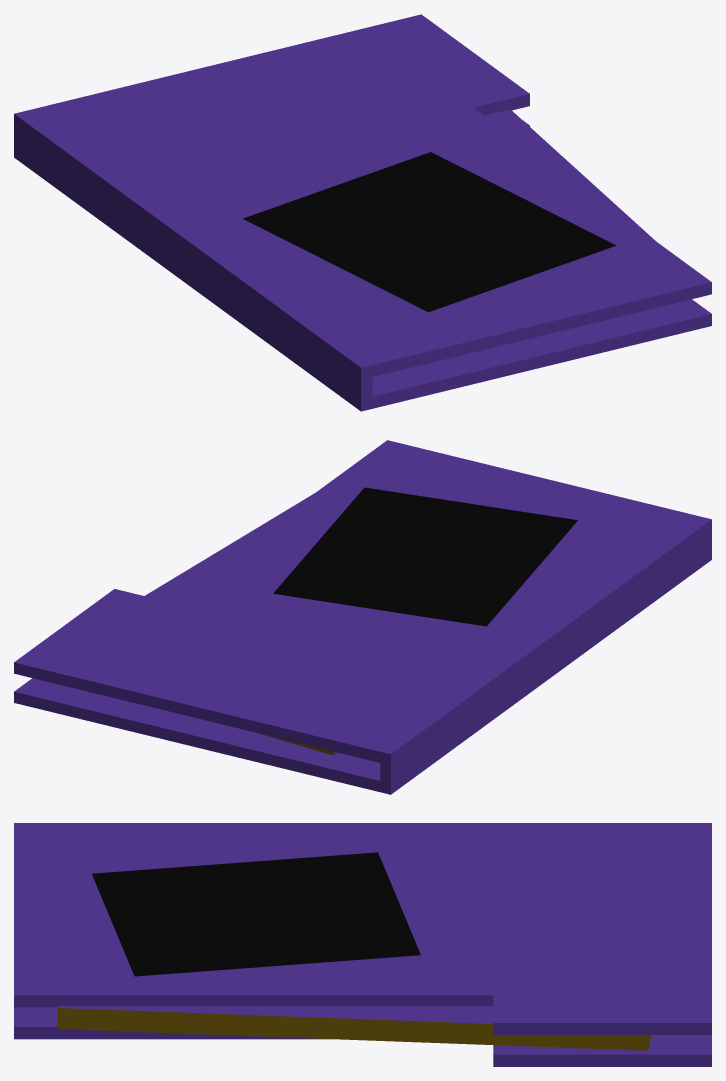
The model's file is folder5.fbx.
The picture shows the model from 3 angles, top to bottom: view 1: azimuth 30°, elevation 25°; view 2: azimuth 150°, elevation 25°; view 3: azimuth 270°, elevation 25°; orthographic projection. The views are drawn at different scales.
Parts seen in each view (by area): view 1: folder5; view 2: folder5; view 3: folder5.
Boxes of the visible parts, box(x1,y1,x2,y2) form: folder5: box(14, 14, 711, 411); folder5: box(14, 440, 711, 794); folder5: box(14, 823, 711, 1066).
Size of the model in its own units: 17.6 by 1.86 by 25.97.
